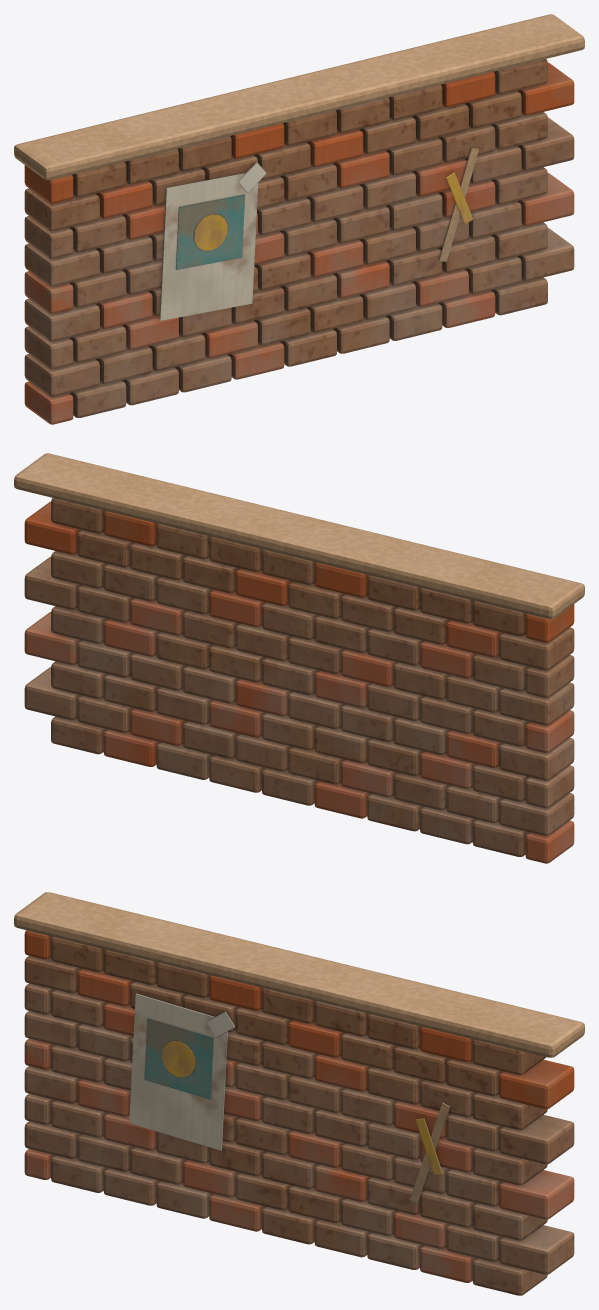
File: brick_wall.glb
3 renders of one model, top to bottom at view 1: azimuth 30°, elevation 25°; view 2: azimuth 150°, elevation 25°; view 3: azimuth 330°, elevation 25°, orthographic.
Parts seen in each view (by area): view 1: BrickWall_Mesh; view 2: BrickWall_Mesh; view 3: BrickWall_Mesh.
Part boxes in pixels (box(x1,y1,x2,y2)): BrickWall_Mesh: box(14, 14, 584, 424); BrickWall_Mesh: box(14, 453, 584, 863); BrickWall_Mesh: box(14, 892, 584, 1295).
Bounding box in the file's own units: 4.1 × 1.9 × 0.44.
1 material, 1 textured.
